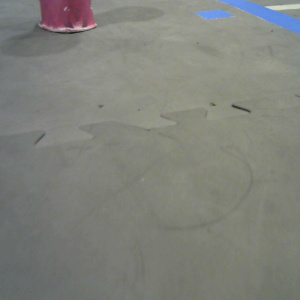middle: (38, 1, 97, 31)
